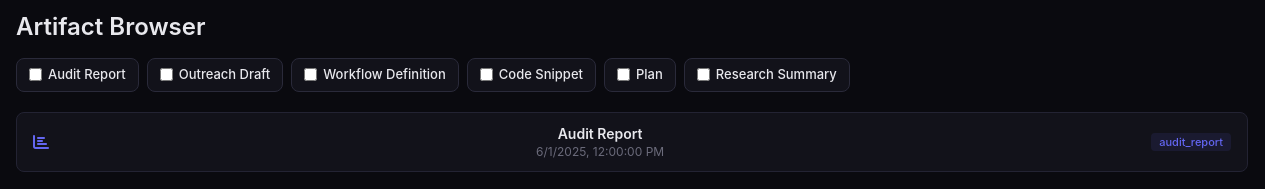
Scenario: ArtifactBrowserPage › shows empty state when filters match no artifacts
expect the list named "artifacts" is shown: met, box 16,112 -> 1248,172
Note: Toggle a filter that returns no results
Click the checkbox named "Filter by Code Snippet" at coordinates (486, 75), box 480,68 -> 493,81
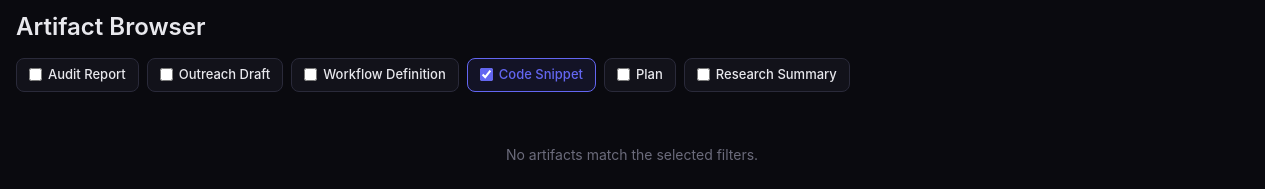
expect the text "No artifacts match the selected filters." is shown: met, box 506,146 -> 758,162
